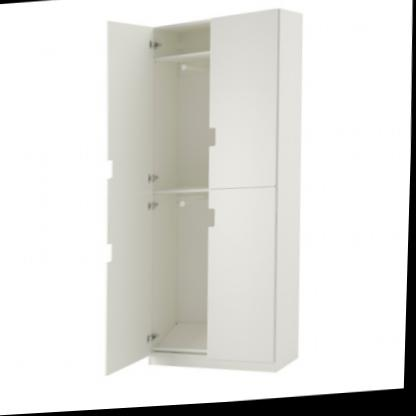Cabinet: (92, 2, 317, 392)
